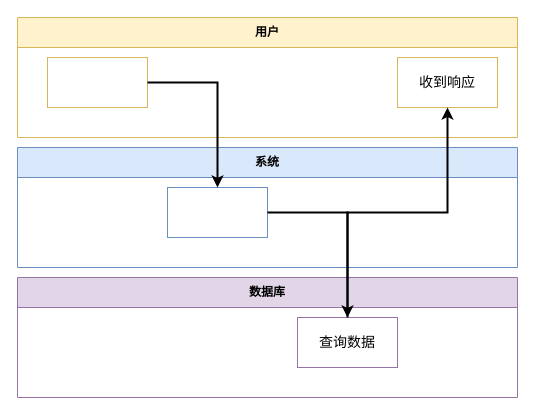
This 535x415 diagram has some shape labels left out. The shapes that lost their labels are listed below. From the top down, each one's centre as x and y in pixels, then its label:
At (x=97, y=82): "发起请求".
At (x=217, y=212): "处理请求".
